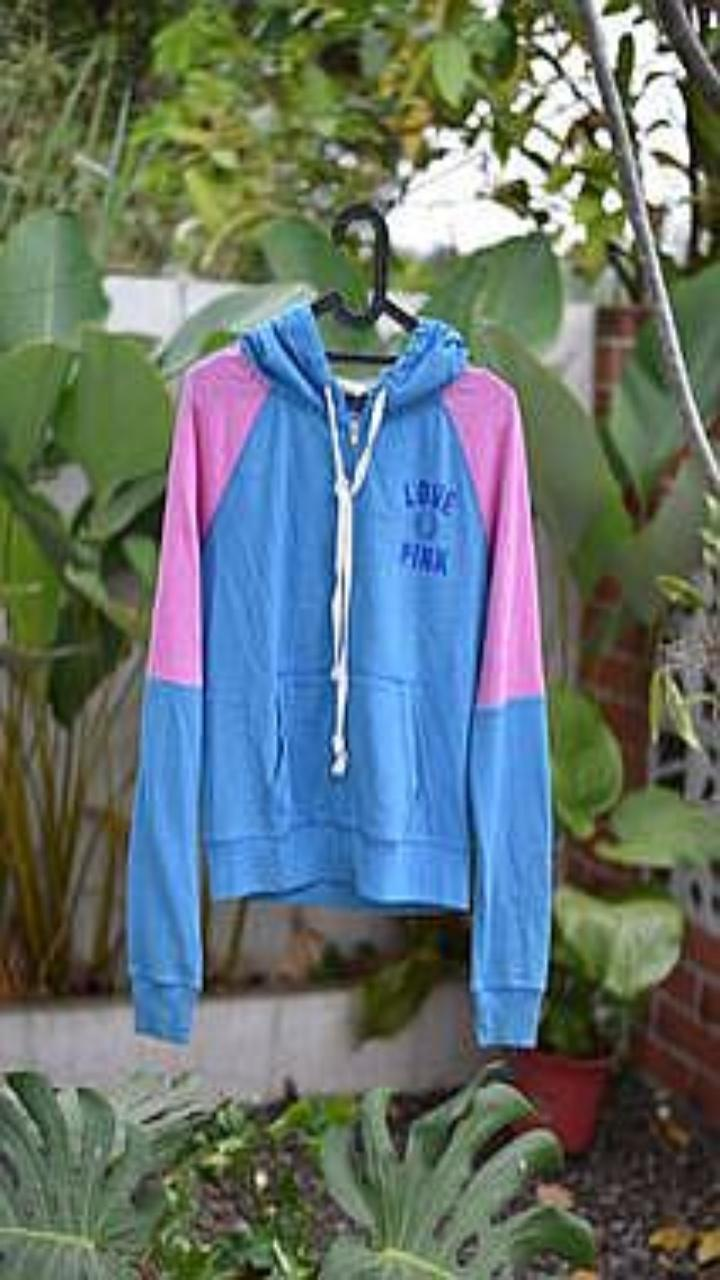Hoodie: (127, 303, 551, 1045)
